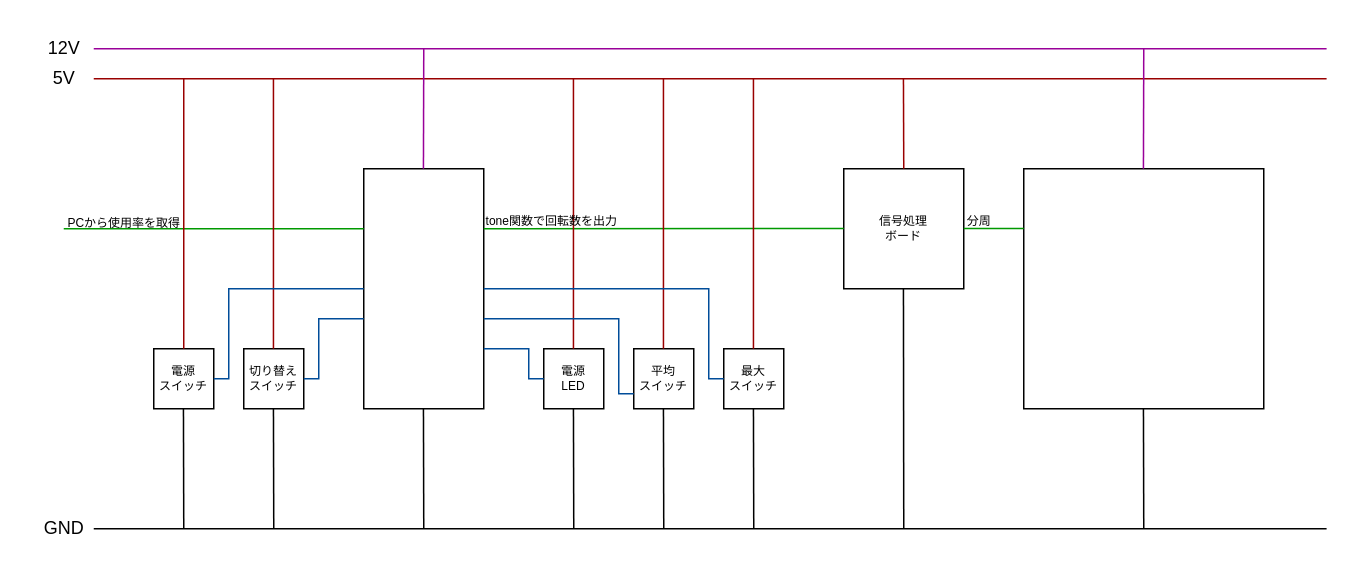
Some shapes in this 1355 by 576 pixel diagram are drawn without their labels. Here are the shapes that lost their labels. From the top down, the centre of each, then its label:
At point 423,288: "Arduino".
At point 1143,288: "タコメーター".
